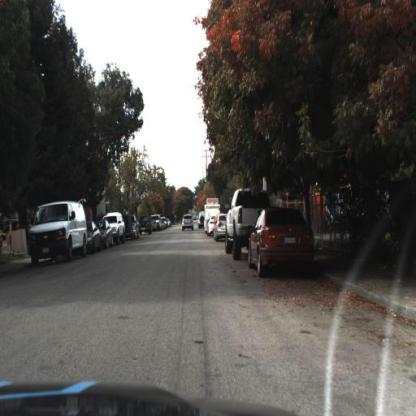car: (245, 204, 318, 282), (25, 195, 90, 271), (26, 198, 86, 268), (223, 186, 270, 261), (224, 185, 268, 263), (106, 208, 127, 245), (213, 208, 232, 247), (84, 216, 102, 252), (98, 218, 112, 252), (88, 212, 102, 245), (138, 209, 152, 238), (178, 212, 197, 232), (152, 212, 162, 232)
truck: (200, 194, 222, 237)
